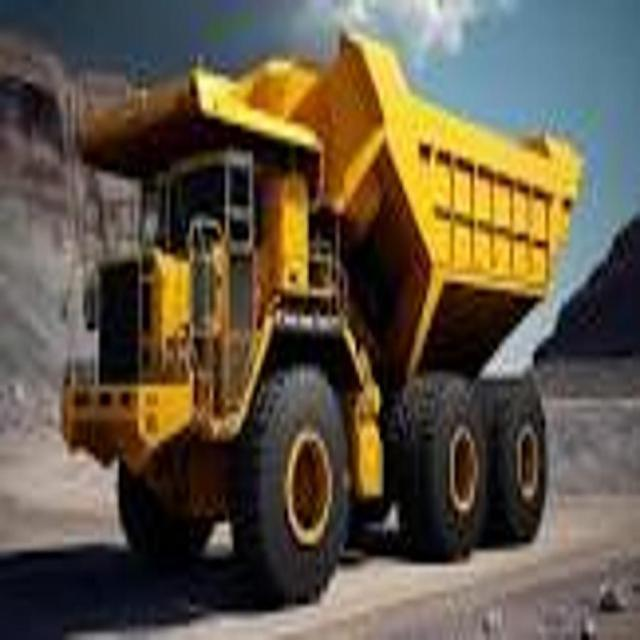dump_truck: (64, 12, 596, 624)
